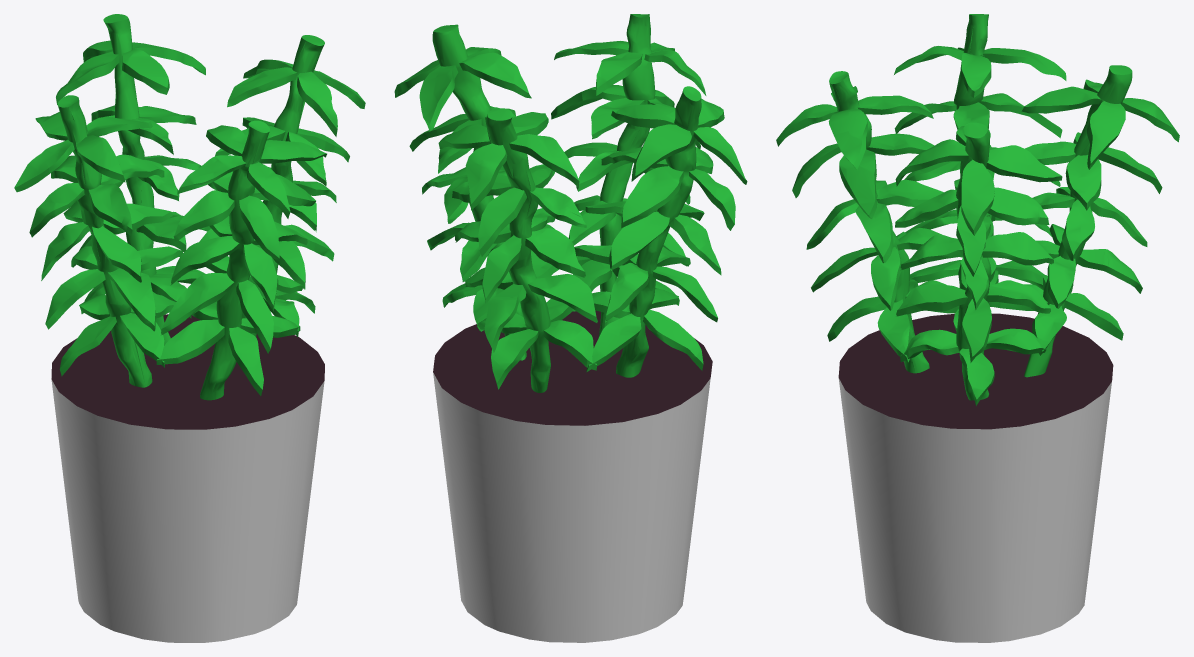
File: Plant.fbx
The picture shows the model from 3 angles, left to right: view 1: azimuth 30°, elevation 25°; view 2: azimuth 150°, elevation 25°; view 3: azimuth 270°, elevation 25°; orthographic projection.
Visible parts, largest first — view 1: plante; view 2: plante; view 3: plante.
Part boxes in pixels (x1,y1,x2,y2): plante: (14,14,365,642); plante: (394,14,747,642); plante: (776,14,1179,642).
Bounding box in the file's own units: 7.31 × 10.59 × 7.31.
